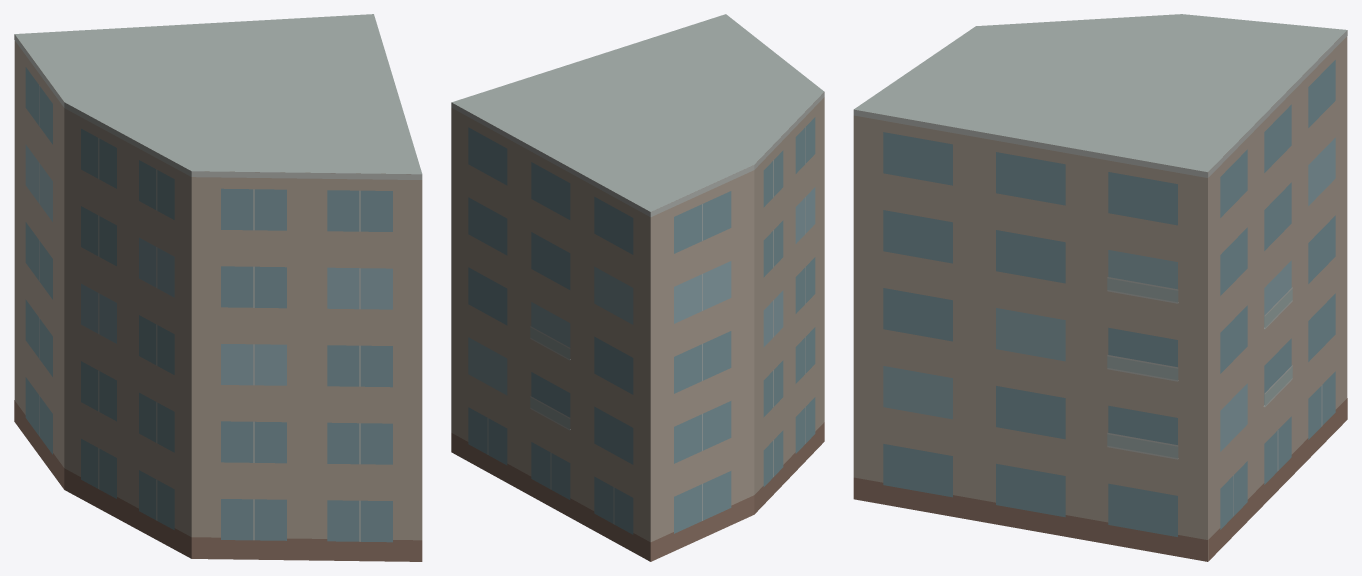
The model's file is survey-upis-32969108.glb.
3 renders of one model, left to right at view 1: azimuth 30°, elevation 25°; view 2: azimuth 150°, elevation 25°; view 3: azimuth 270°, elevation 25°, orthographic. The views are drawn at different scales.
Visible parts, largest first — view 1: survey-upis-32969108.tmp; view 2: survey-upis-32969108.tmp; view 3: survey-upis-32969108.tmp.
Part boxes in pixels (bbox=[...]): survey-upis-32969108.tmp: bbox=[14, 14, 422, 561]; survey-upis-32969108.tmp: bbox=[451, 14, 824, 561]; survey-upis-32969108.tmp: bbox=[853, 14, 1347, 561].
Size of the model in its own units: 14.03 by 16.1 by 18.5.
